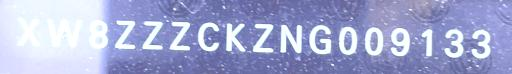letter: (44, 16, 86, 49), (13, 13, 47, 47), (277, 21, 309, 53), (438, 27, 472, 57), (222, 18, 250, 54), (86, 18, 116, 50), (139, 17, 167, 51), (467, 26, 495, 59), (388, 24, 414, 59), (196, 19, 222, 53), (250, 20, 276, 54), (307, 21, 333, 55), (333, 22, 359, 56), (361, 22, 387, 56), (111, 18, 139, 49), (167, 17, 193, 49), (417, 25, 439, 56)
